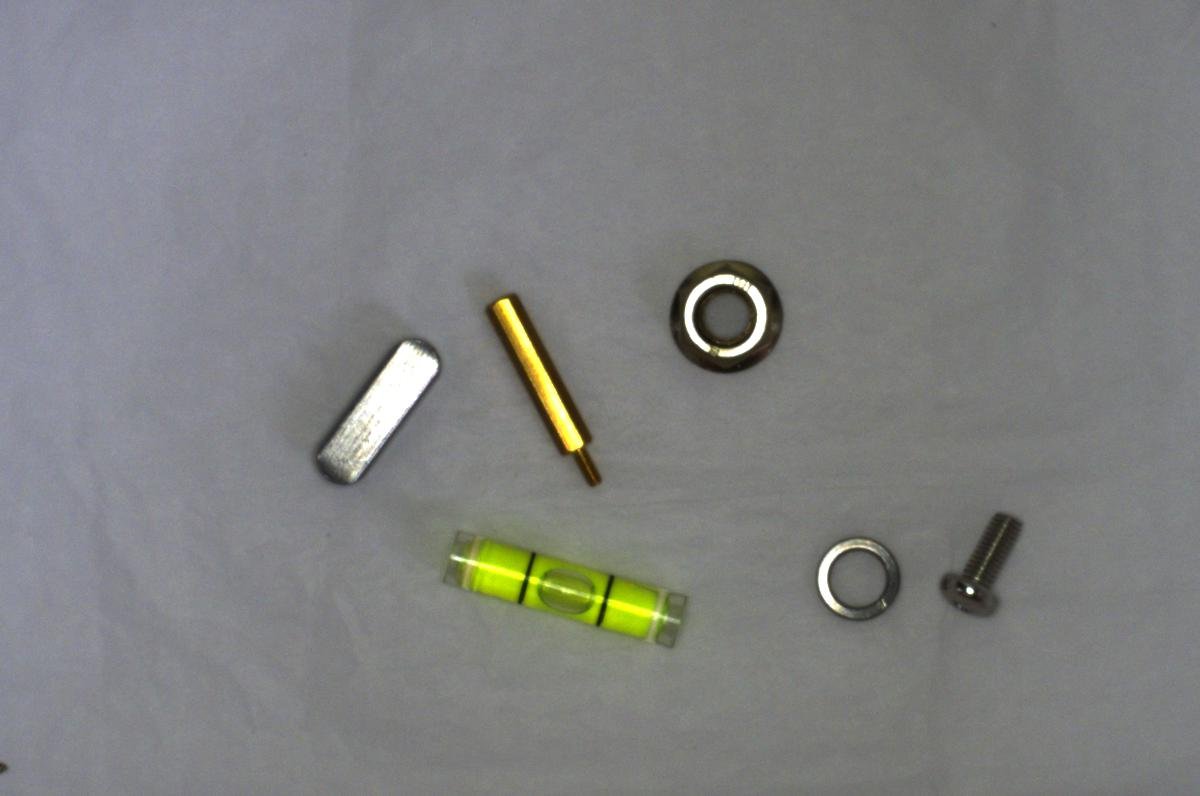Flange nut: (660, 246, 788, 375)
Hexagon pillar: (478, 285, 612, 493)
Horizontal bubble: (425, 523, 699, 654)
Keybar: (295, 326, 455, 490)
Round head screw: (924, 503, 1032, 622)
Spring washer: (806, 526, 910, 623)
